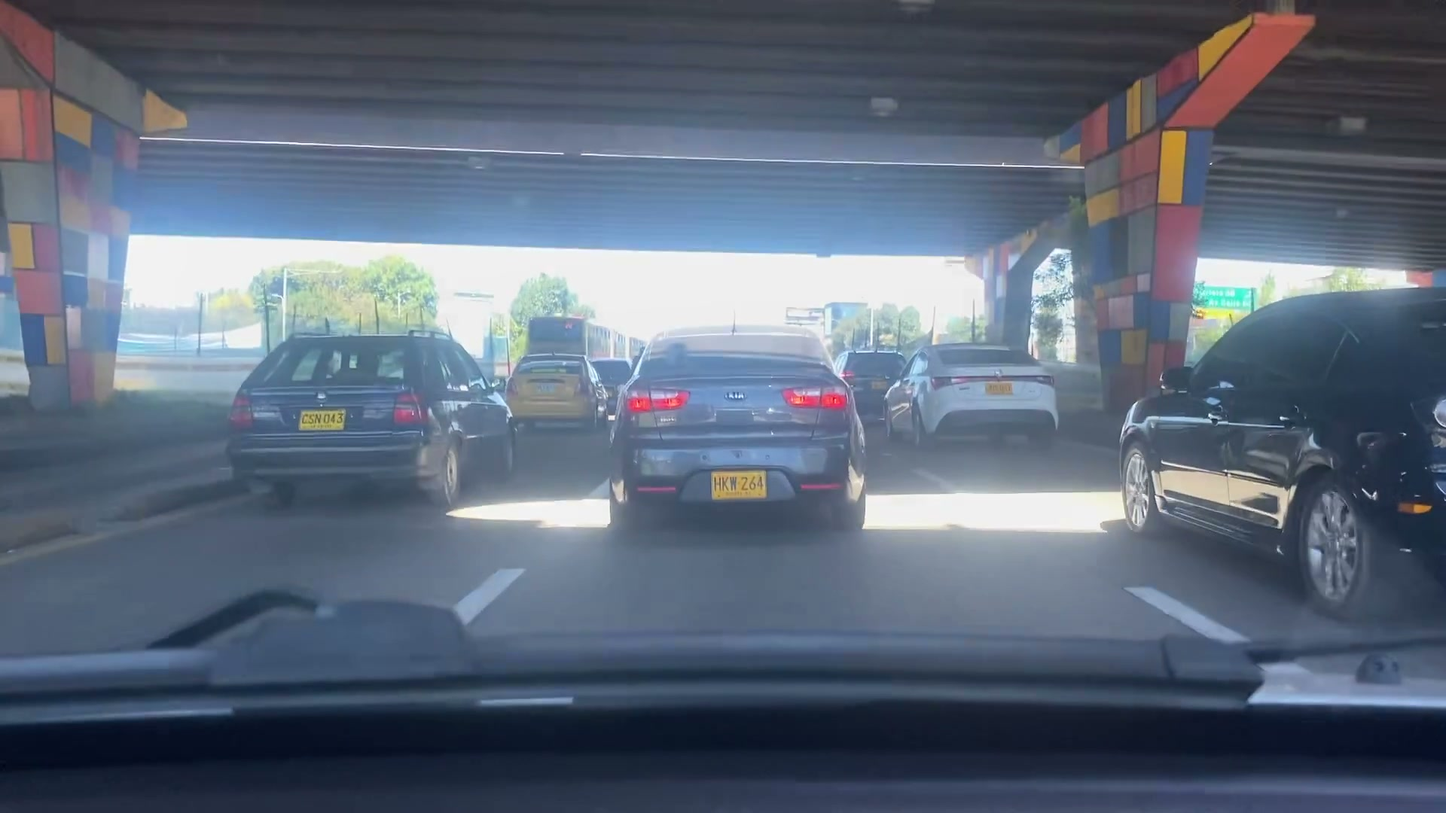car: (1118, 287, 1446, 624), (607, 322, 863, 533), (224, 331, 518, 511), (883, 343, 1064, 455), (501, 353, 605, 430), (832, 352, 909, 420), (585, 355, 635, 420)
